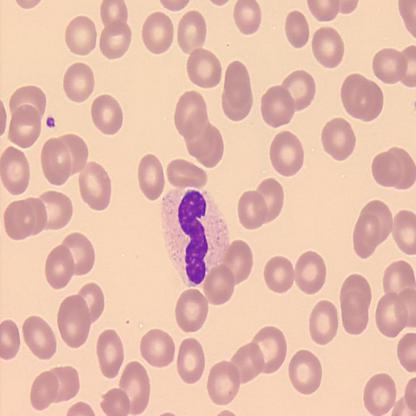Band Neutrophil: (160, 183, 232, 290)
